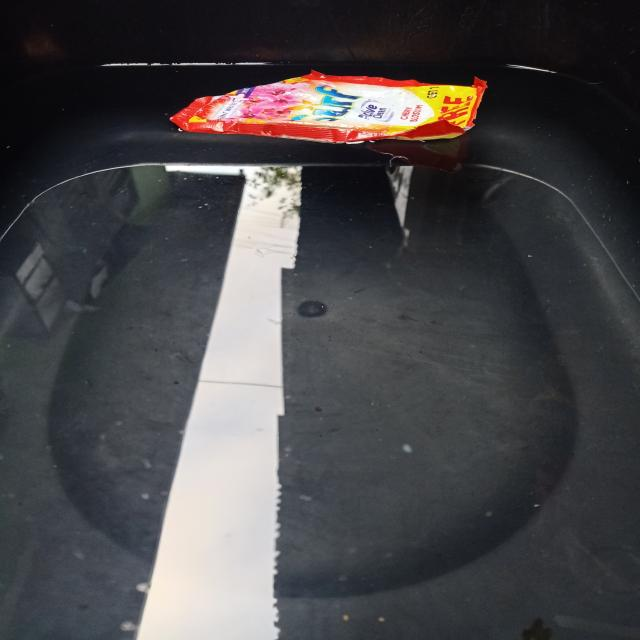Plastic Wrapper: (170, 71, 487, 143)
